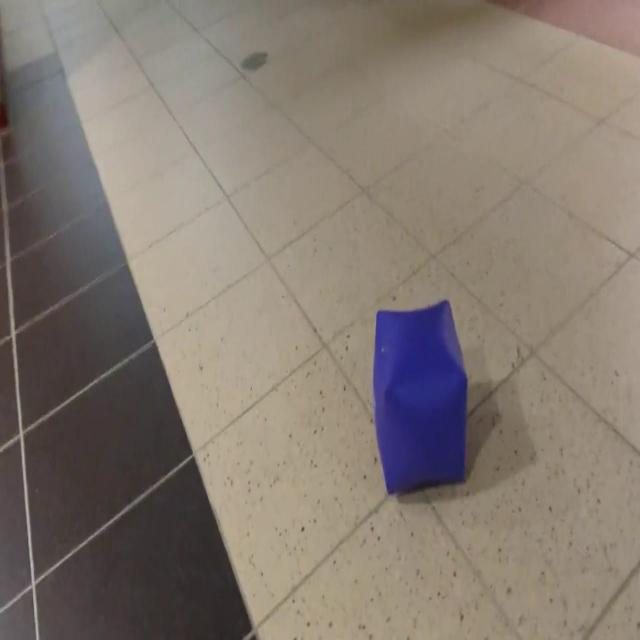frc_cube: (372, 297, 469, 495)
